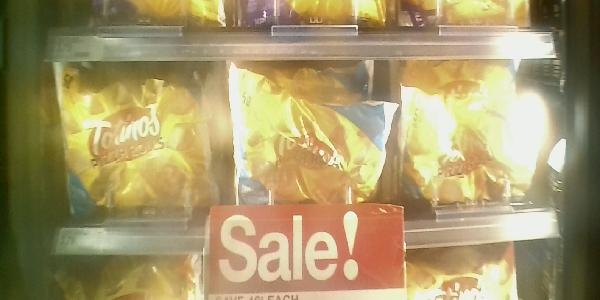icecream: (48, 58, 226, 243), (227, 61, 395, 239), (397, 61, 558, 221)
